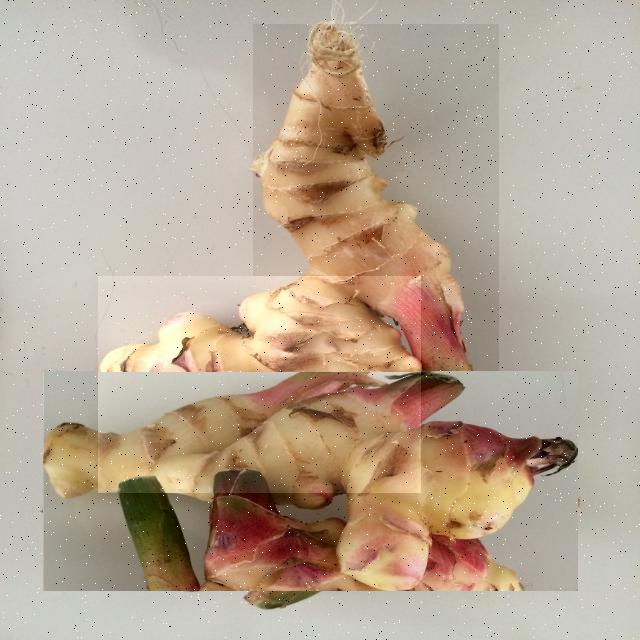ginger: (43, 370, 577, 590), (252, 23, 498, 479), (97, 275, 420, 491)
